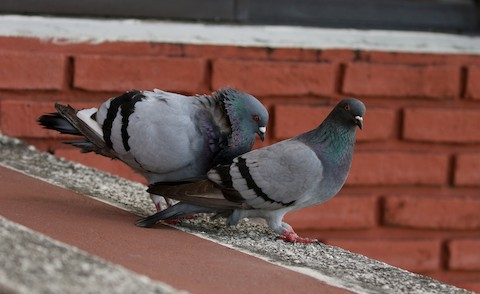pigeon: (131, 95, 377, 249), (38, 84, 275, 214)
